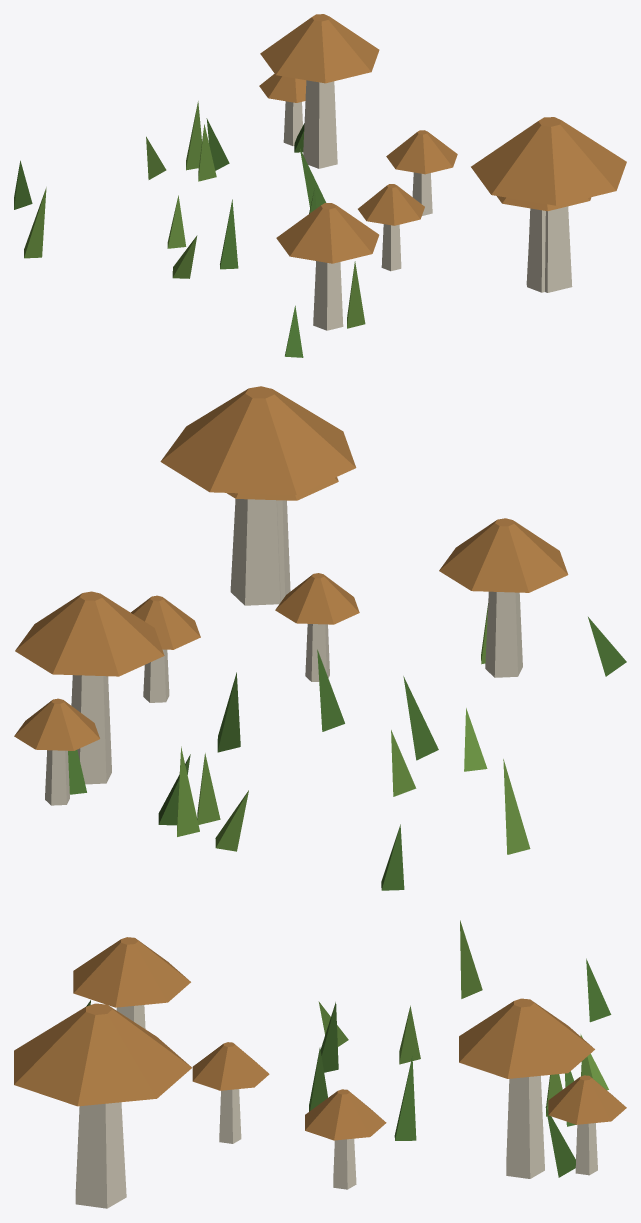
File: mushroom_ring.glb
The picture shows the model from 3 angles, top to bottom: view 1: azimuth 30°, elevation 25°; view 2: azimuth 150°, elevation 25°; view 3: azimuth 270°, elevation 25°; orthographic projection. The views are drawn at different scales.
Visible parts, largest first — view 1: scatter_mushrooms_brown; view 2: scatter_mushrooms_brown; view 3: scatter_mushrooms_brown.
Boxes of the visible parts, bbox=[...] form: scatter_mushrooms_brown: bbox=[14, 14, 626, 357]; scatter_mushrooms_brown: bbox=[14, 386, 626, 890]; scatter_mushrooms_brown: bbox=[14, 920, 626, 1208].
Size of the model in its own units: 1.43 by 0.5165 by 1.48.
